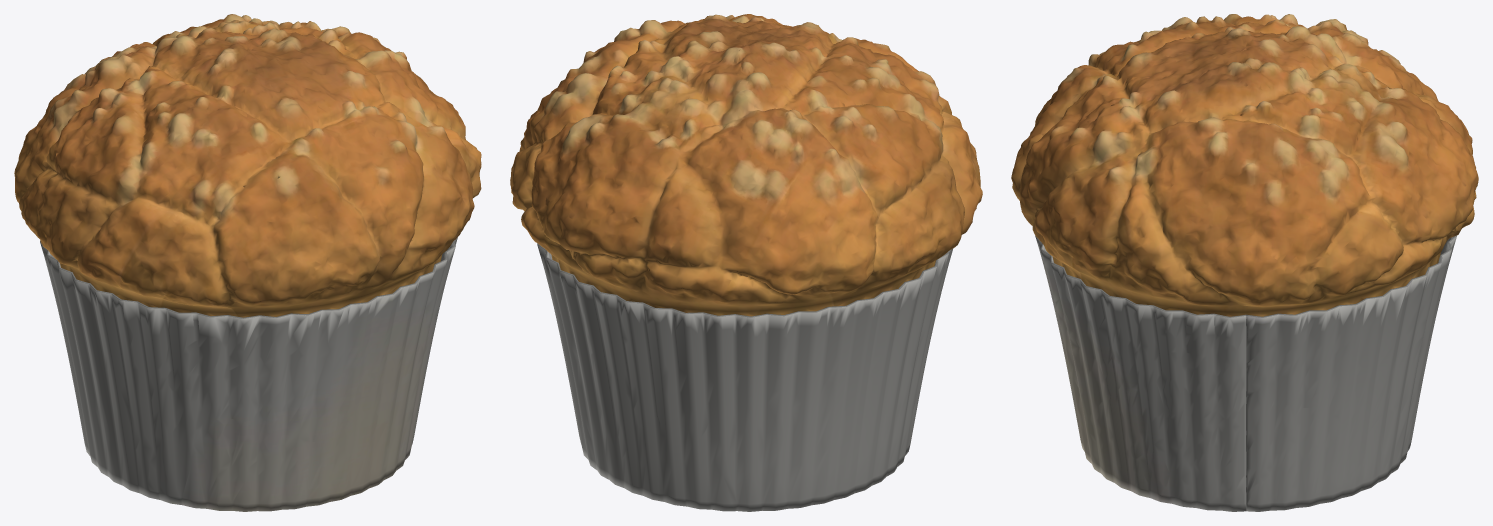
File: muffin.glb
3 views of the same model, side by side, from view 1: azimuth 30°, elevation 25°; view 2: azimuth 150°, elevation 25°; view 3: azimuth 270°, elevation 25° (orthographic).
Parts seen in each view (by area): view 1: Muffin_Copa, Muffin_Capsula; view 2: Muffin_Copa, Muffin_Capsula; view 3: Muffin_Copa, Muffin_Capsula.
Boxes of the visible parts, x1,y1,x2,y2 form: Muffin_Copa: (14,14,481,317); Muffin_Capsula: (40,237,457,511); Muffin_Copa: (510,14,982,316); Muffin_Capsula: (537,243,953,511); Muffin_Copa: (1011,14,1478,316); Muffin_Capsula: (1035,235,1456,511).
Bounding box in the file's own units: 0.0908 × 0.0849 × 0.0894.
Materials: 2 (2 with a texture image).
